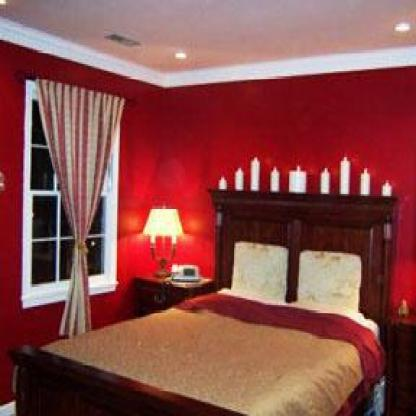other: (144, 198, 187, 245)
